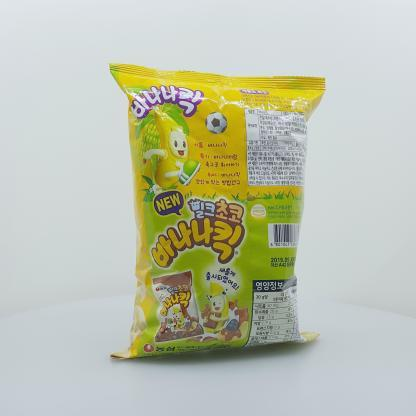Plastic Packaging: (102, 54, 336, 366)
